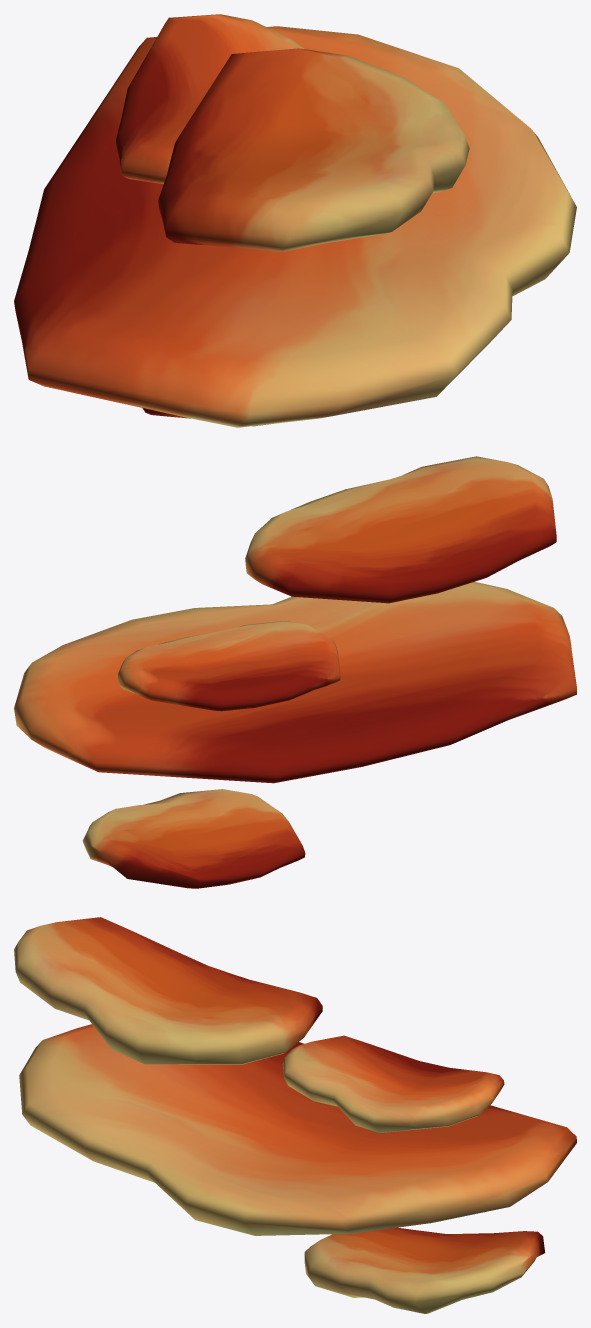
The model's file is MushroomWallFungus1_Deco.fbx.
The picture shows the model from 3 angles, top to bottom: view 1: azimuth 30°, elevation 25°; view 2: azimuth 150°, elevation 25°; view 3: azimuth 270°, elevation 25°; orthographic projection. The views are drawn at different scales.
Parts seen in each view (by area): view 1: MushroomWallFungus1; view 2: MushroomWallFungus1; view 3: MushroomWallFungus1.
Boxes of the visible parts, <box> form: MushroomWallFungus1: <box>14,14,576,427</box>; MushroomWallFungus1: <box>14,456,576,888</box>; MushroomWallFungus1: <box>14,917,576,1313</box>.
Bounding box in the file's own units: 33.65 × 21.07 × 37.79.
